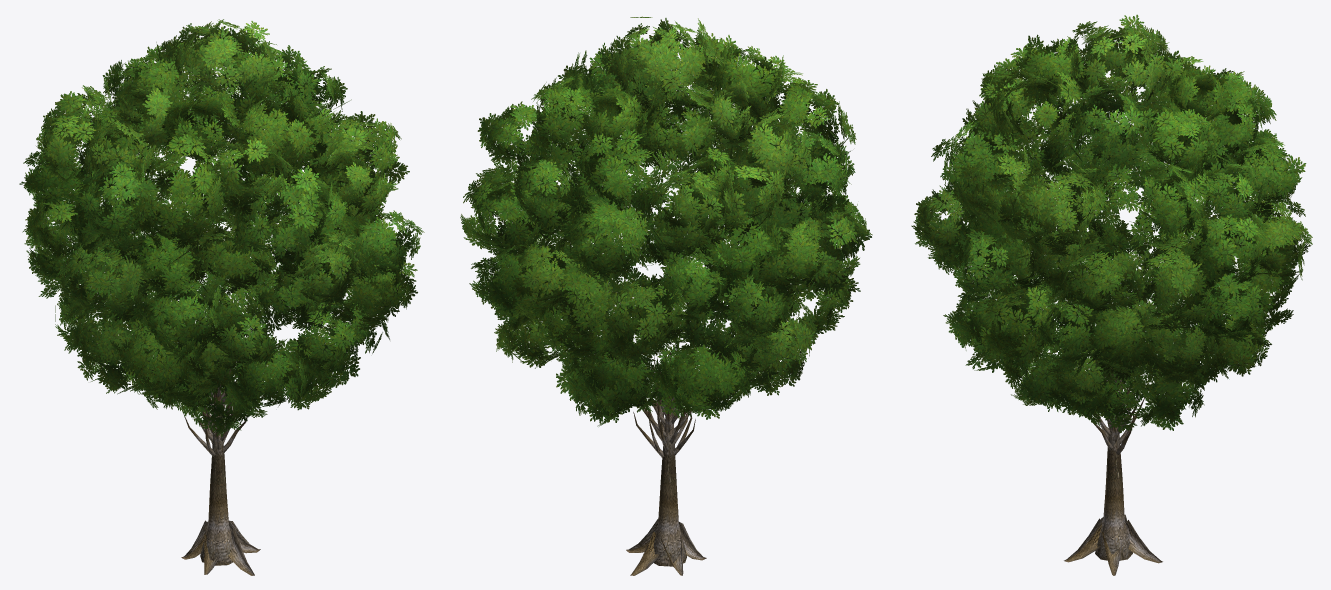
Rendered from mm6_deco_tree15.glb.
3 views of the same model, side by side, from view 1: azimuth 30°, elevation 25°; view 2: azimuth 150°, elevation 25°; view 3: azimuth 270°, elevation 25° (orthographic).
Parts seen in each view (by area): view 1: Tree; view 2: Tree; view 3: Tree.
Boxes of the visible parts, x1=… form: Tree: x1=19, y1=19, x2=424, y2=575; Tree: x1=460, y1=16, x2=872, y2=575; Tree: x1=911, y1=14, x2=1312, y2=575.
Bounding box in the file's own units: 5.34 × 7.82 × 5.38.
2 materials, 2 textured.
